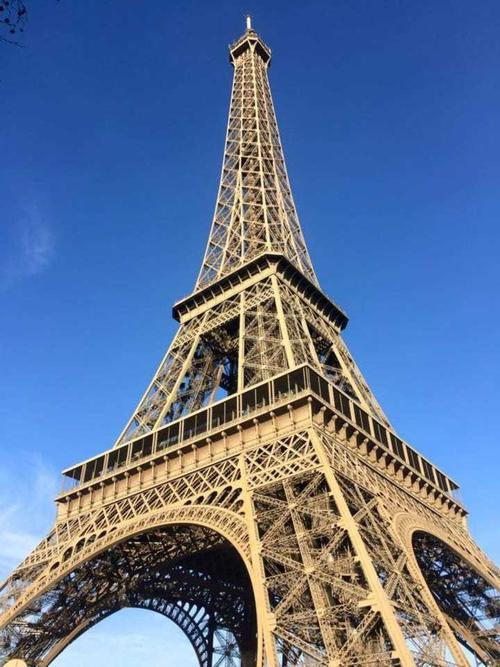buildings: (22, 184, 481, 666)
